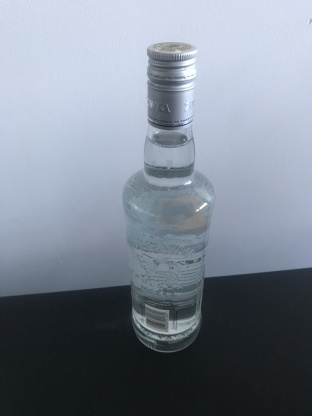nakretka: (144, 39, 199, 133)
